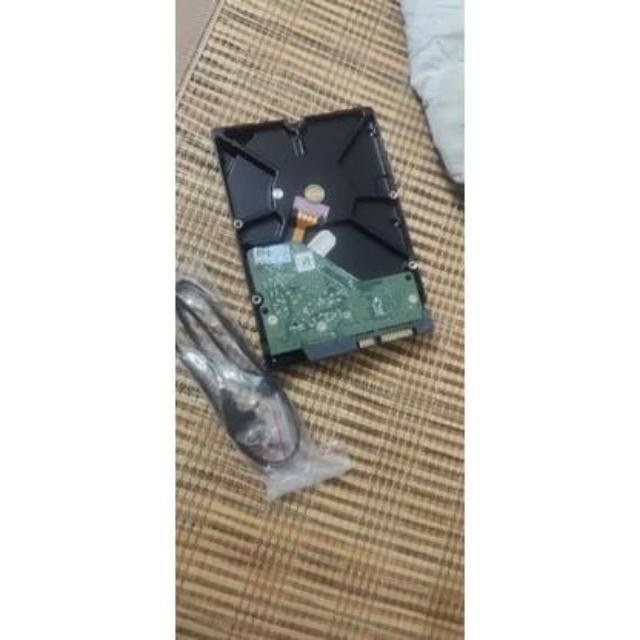DISK: (203, 107, 432, 364)
